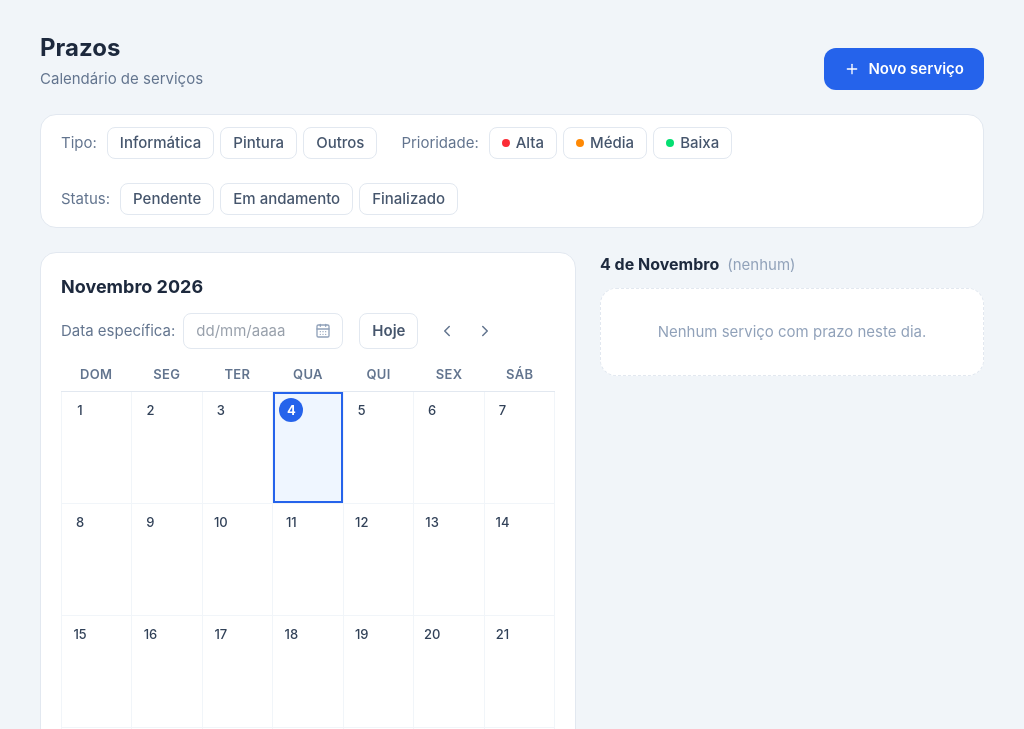
Test: calendário de Prazos › "Data específica" leva ao mês e seleciona o dia com os serviços dele
Expected: the text "Novembro 2026" is shown, x1=61 y1=273 x2=203 y2=301
Type "15122026" into the dropdown named "Ir para uma data específica". click: x=263, y=331
box: x1=183 y1=313 x2=343 y2=349
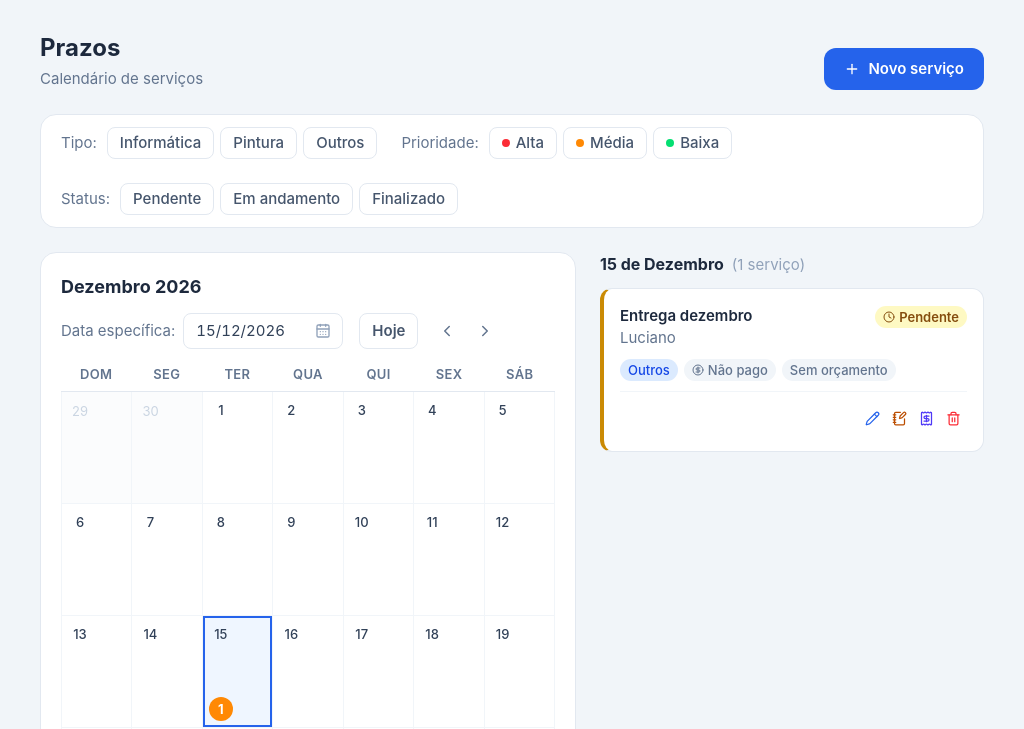
Expected: the text "Dezembro 2026" is shown, x1=61 y1=273 x2=202 y2=301
Expected: the heading "15 de Dezembro(1 serviço)" is shown, x1=600 y1=254 x2=805 y2=274
Expected: the text "Entrega dezembro" is shown, x1=620 y1=306 x2=752 y2=325
